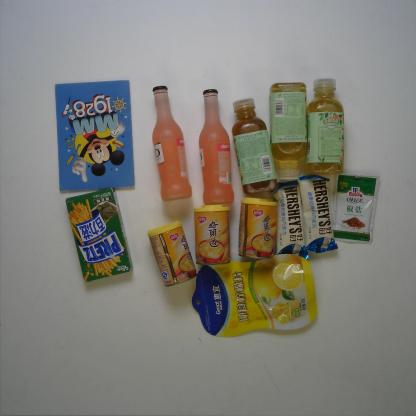Alcohol: (150, 83, 193, 202), (198, 88, 236, 207)
Canned Food: (147, 219, 198, 288), (236, 198, 279, 260), (193, 203, 231, 266)
Chocolate: (297, 173, 339, 256), (272, 183, 310, 262)
Dessert: (65, 188, 133, 283)
Dried Fruit: (191, 253, 318, 338)
Drink: (232, 97, 278, 194), (305, 78, 347, 177), (268, 80, 307, 182)
Seasoner: (327, 174, 377, 244)
Stationery: (53, 79, 138, 193)
